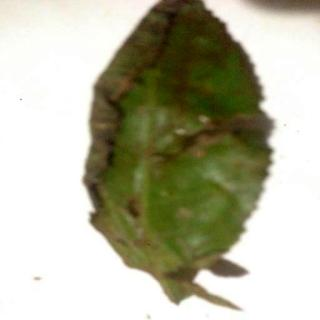Red Leaf Spot: (87, 1, 273, 313)
